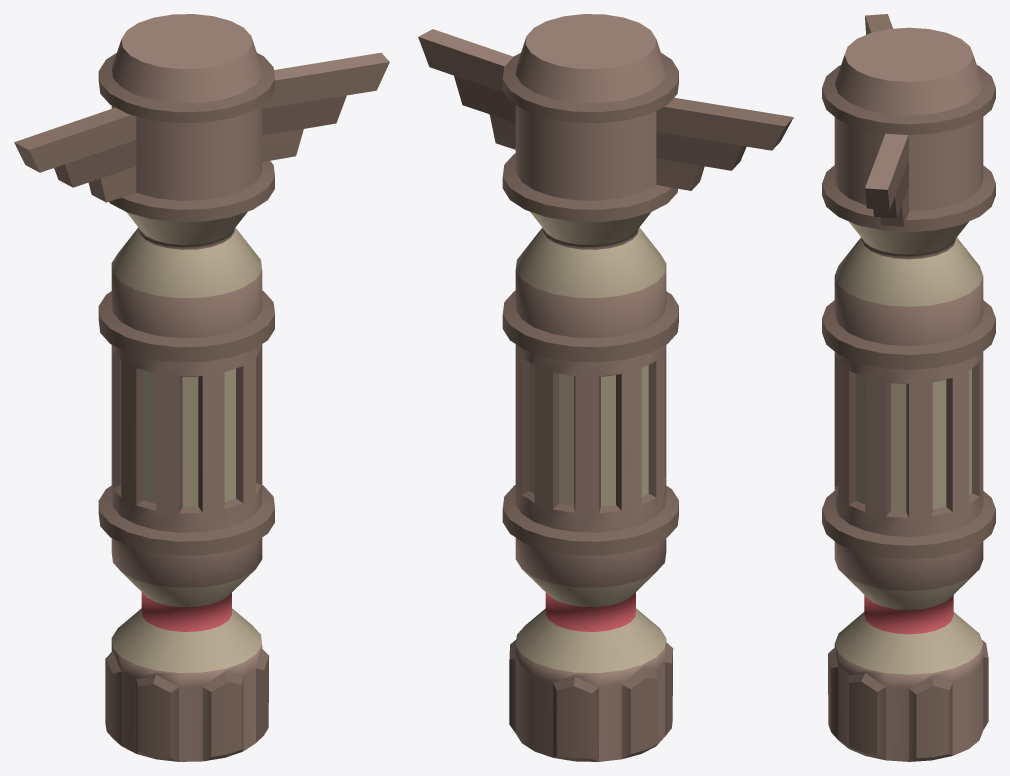
Rendered from A_EndTotem.fbx.
3 renders of one model, left to right at view 1: azimuth 30°, elevation 25°; view 2: azimuth 150°, elevation 25°; view 3: azimuth 270°, elevation 25°, orthographic.
Visible parts, largest first — view 1: pCylinder1; view 2: pCylinder1; view 3: pCylinder1.
Boxes of the visible parts, x1,y1,x2,y2 form: pCylinder1: (14,14,389,761); pCylinder1: (418,14,793,761); pCylinder1: (822,14,995,761).
Size of the model in its own units: 125 by 224 by 52.16.
